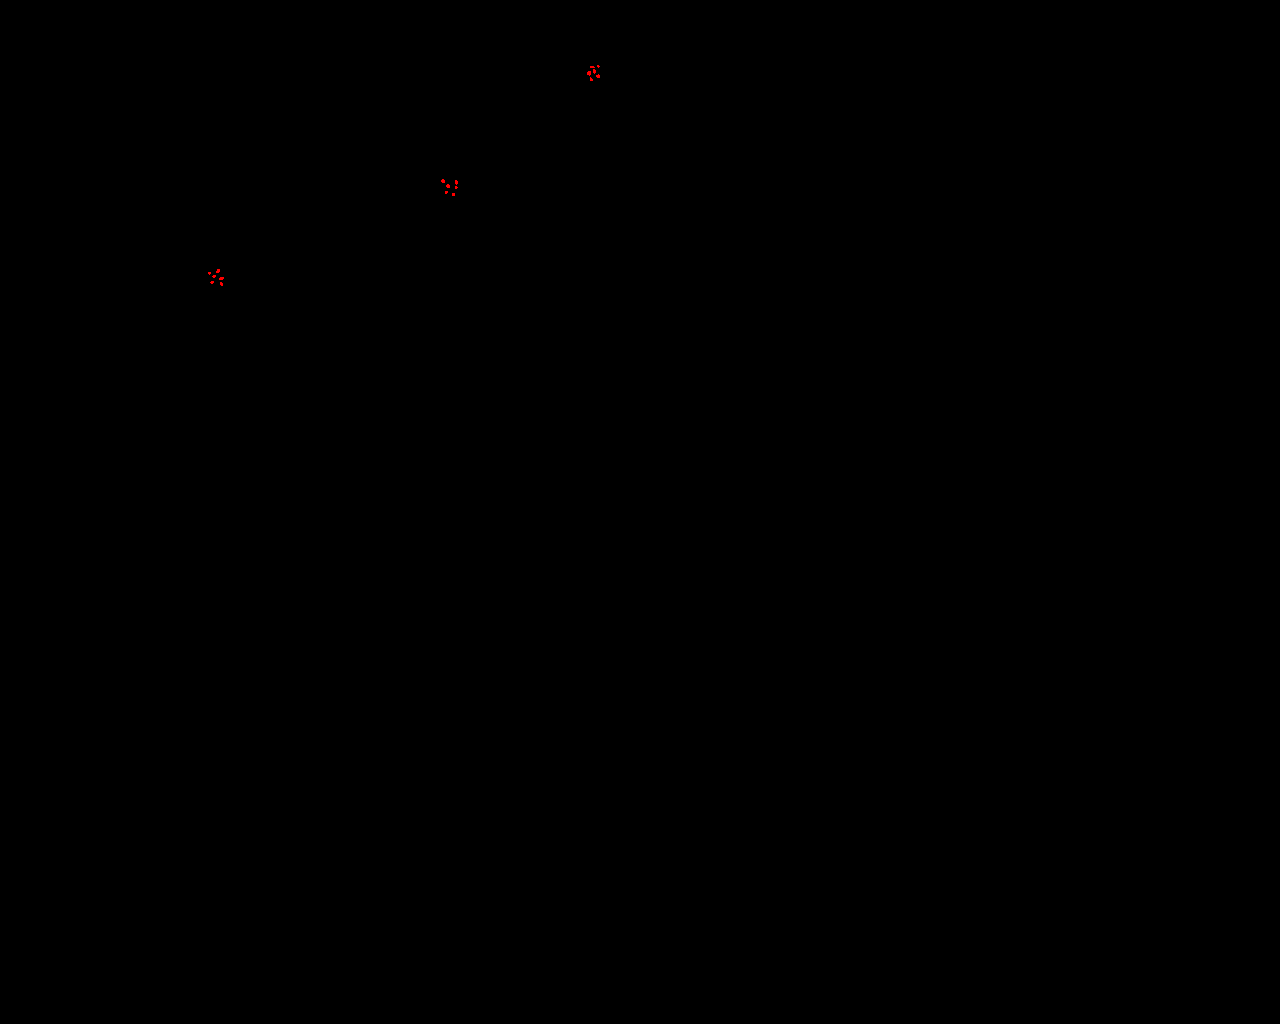Target: (587, 71, 591, 76), (596, 74, 600, 78), (441, 179, 445, 183), (446, 184, 450, 188), (216, 269, 220, 273), (455, 180, 458, 185), (590, 77, 594, 82), (212, 275, 216, 278), (219, 277, 224, 280), (210, 281, 214, 284), (594, 69, 596, 74), (597, 65, 600, 68), (455, 186, 458, 189), (445, 191, 448, 194), (208, 272, 211, 275), (590, 66, 595, 68), (220, 282, 223, 286), (452, 193, 455, 196)
